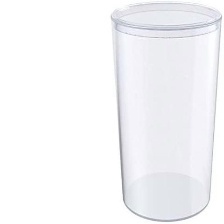plastic_box: (104, 0, 224, 224)
